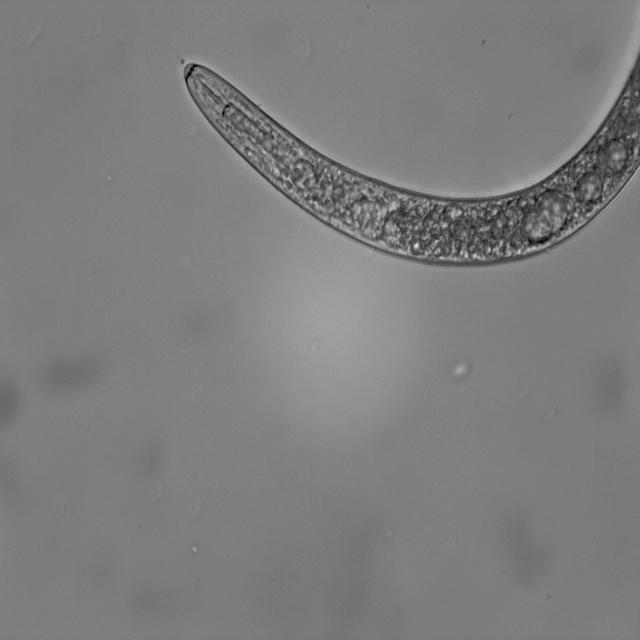Helicotylenchus: (172, 50, 640, 272)
